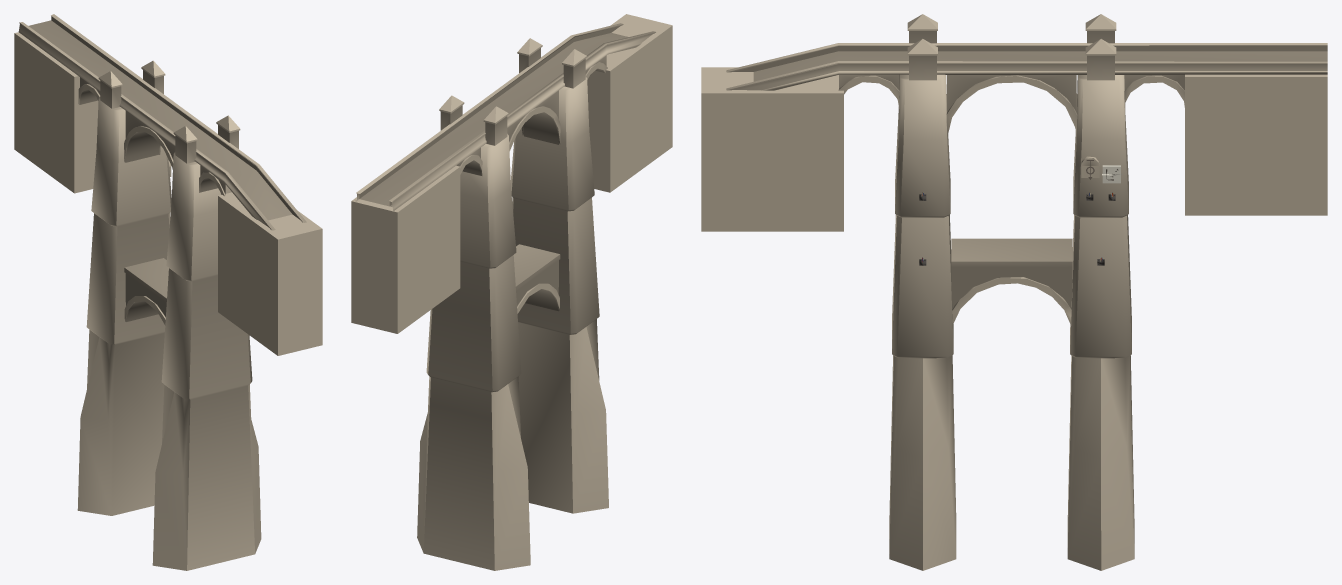
Rendered from two_heights_bridge_lod1.glb.
3 views of the same model, side by side, from view 1: azimuth 30°, elevation 25°; view 2: azimuth 150°, elevation 25°; view 3: azimuth 270°, elevation 25° (orthographic). The views are drawn at different scales.
Visible parts, largest first — view 1: two_heights_bridge_lod1; view 2: two_heights_bridge_lod1; view 3: two_heights_bridge_lod1.
Boxes of the visible parts, box(x1,y1,x2,y2) form: two_heights_bridge_lod1: box(14, 14, 322, 570); two_heights_bridge_lod1: box(351, 14, 672, 570); two_heights_bridge_lod1: box(701, 14, 1327, 570).
Size of the model in its own units: 29.31 by 111 by 123.
